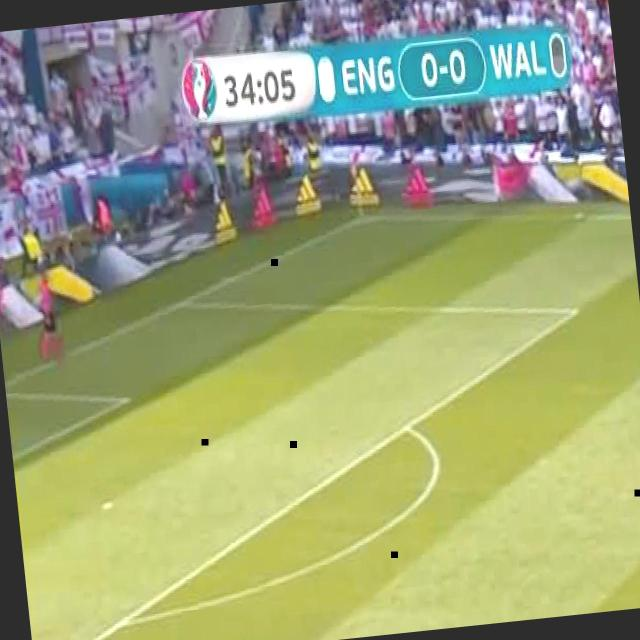player-white: (36, 272, 62, 359)
